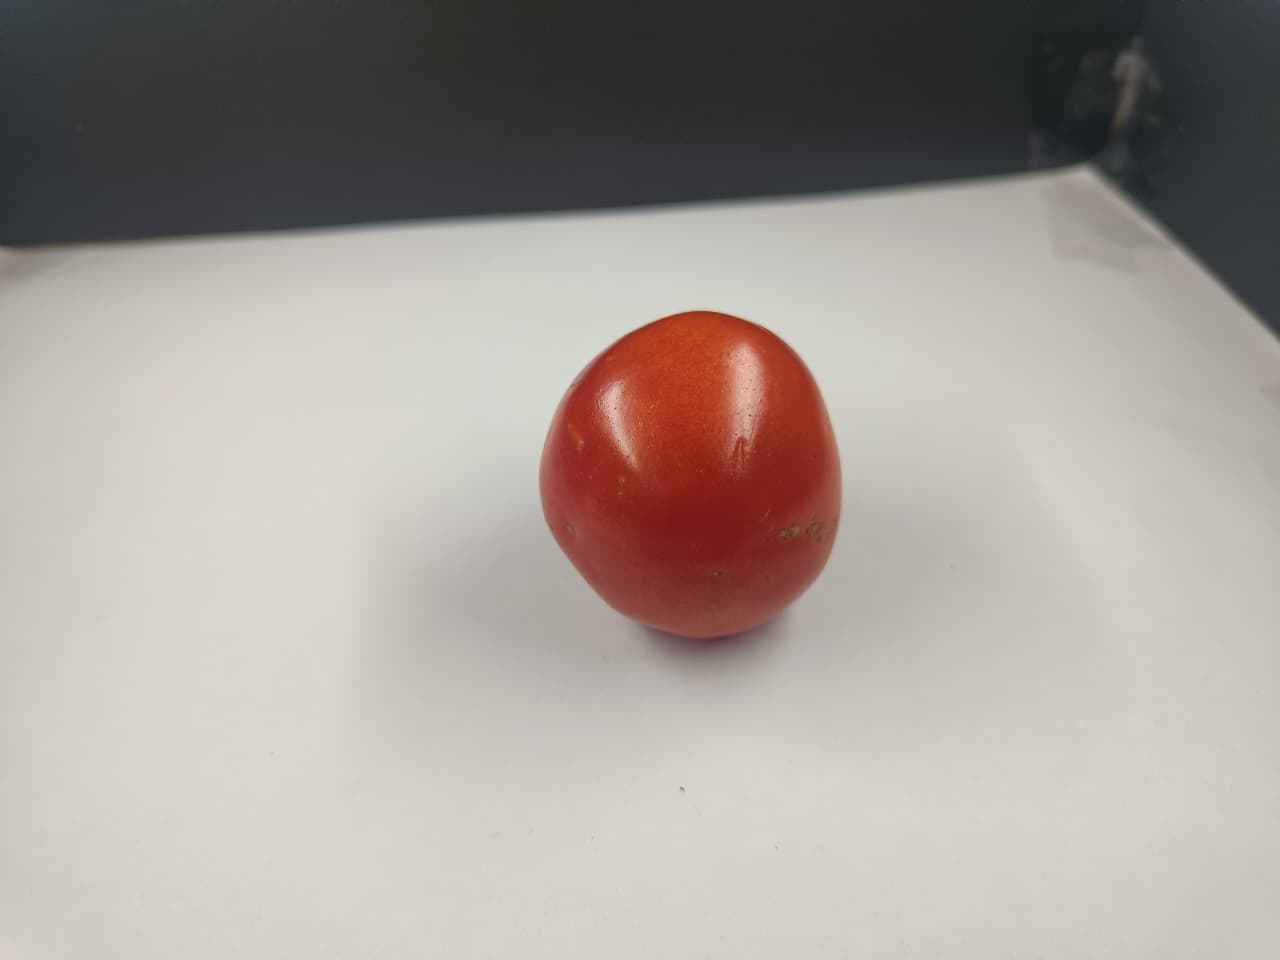ripe: (524, 295, 859, 661)
